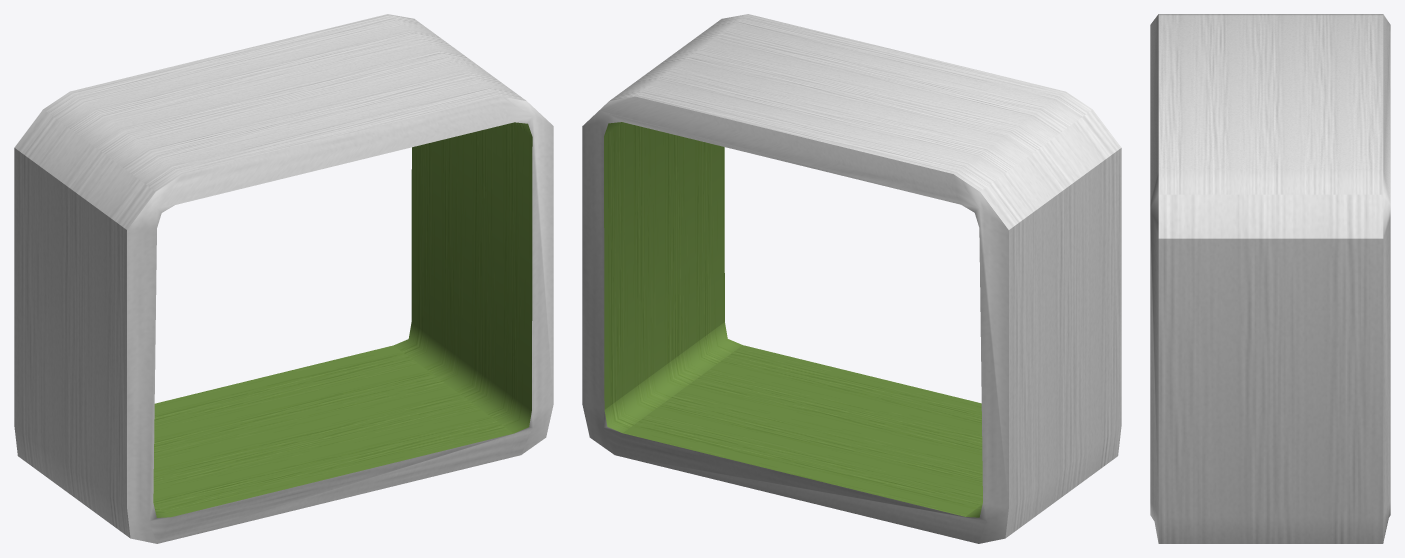
The model's file is Wall_Shelf_02_H.FBX.
3 views of the same model, side by side, from view 1: azimuth 30°, elevation 25°; view 2: azimuth 150°, elevation 25°; view 3: azimuth 270°, elevation 25° (orthographic).
Visible parts, largest first — view 1: Wall_Shelf_02; view 2: Wall_Shelf_02; view 3: Wall_Shelf_02.
Part boxes in pixels (left/top/right/bottom): Wall_Shelf_02: left=14, top=14, right=553, bottom=543; Wall_Shelf_02: left=582, top=14, right=1121, bottom=543; Wall_Shelf_02: left=1150, top=14, right=1390, bottom=543.
Size of the model in its own units: 120 by 98.08 by 58.85.
